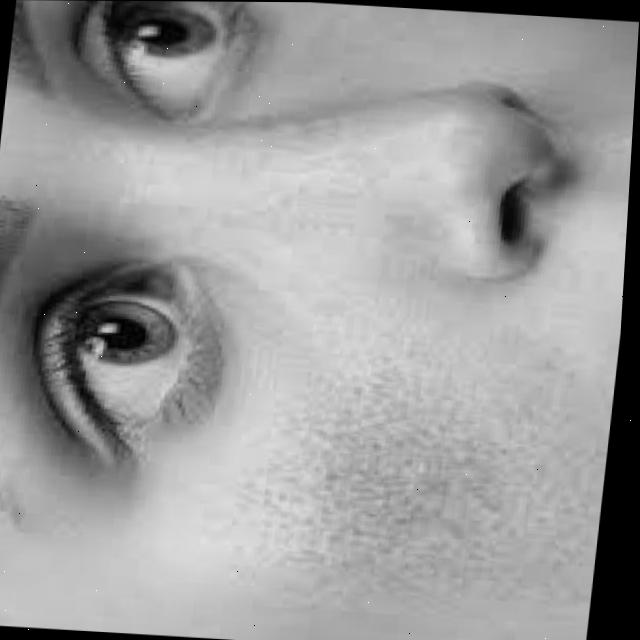Rosacea: (298, 410, 525, 571)
